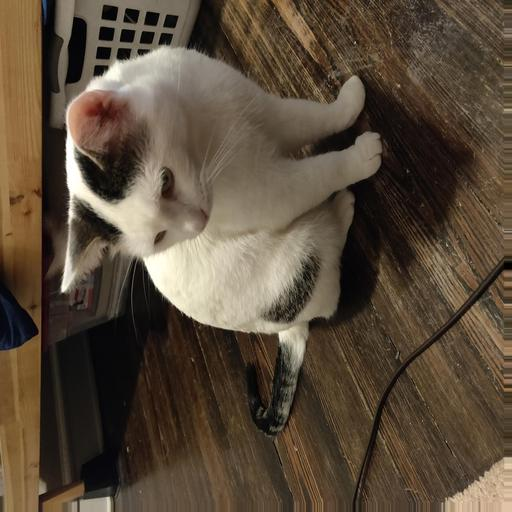cat: (62, 33, 364, 335)
